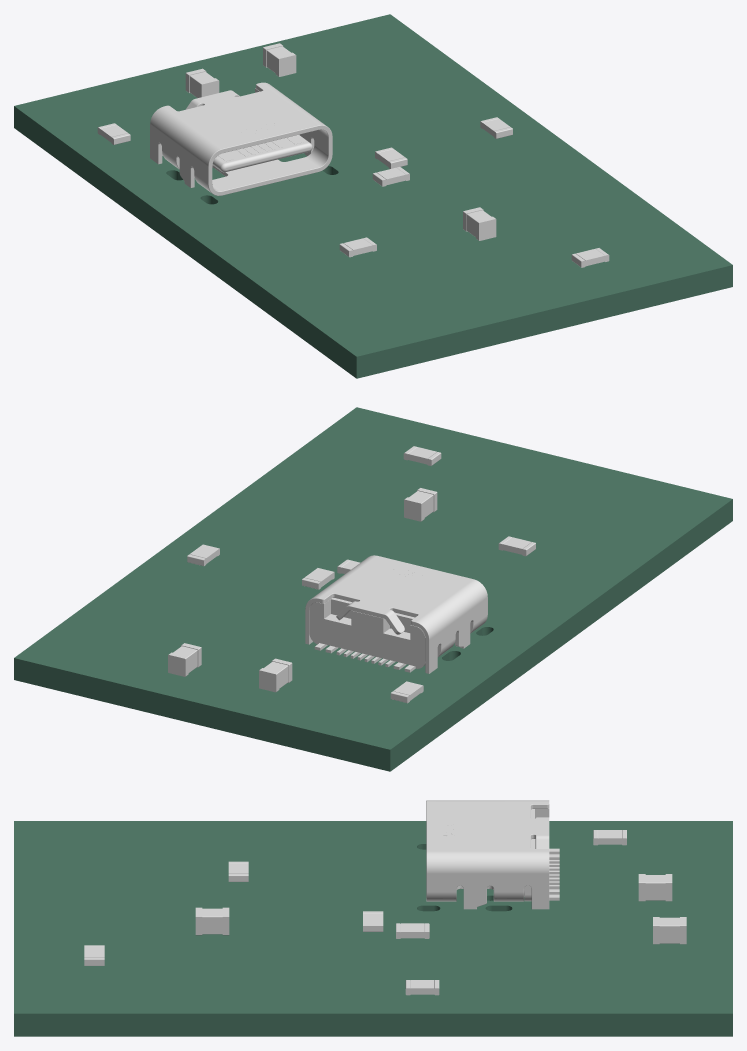
Rendered from board.glb.
The picture shows the model from 3 angles, top to bottom: view 1: azimuth 30°, elevation 25°; view 2: azimuth 150°, elevation 25°; view 3: azimuth 270°, elevation 25°; orthographic projection. The views are drawn at different scales.
Parts seen in each view (by area): view 1: =>[0:1:1:5], J1, C2, C3, C1; view 2: =>[0:1:1:5], J1, C3, C2, C1; view 3: =>[0:1:1:5], J1, C3, C1, C2, R2, R5, R1, R6, R3, R4.
Part boxes in pixels (x1,y1,x2,y2): =>[0:1:1:5]: [14, 14, 732, 378]; J1: [150, 82, 332, 195]; C2: [263, 43, 296, 76]; C3: [463, 207, 496, 240]; C1: [185, 68, 219, 97]; =>[0:1:1:5]: [14, 407, 732, 771]; J1: [305, 555, 487, 673]; C3: [404, 488, 437, 521]; C2: [168, 643, 201, 676]; C1: [259, 658, 292, 692]; =>[0:1:1:5]: [14, 821, 732, 1036]; J1: [426, 800, 559, 909]; C3: [195, 907, 229, 935]; C1: [638, 874, 672, 901]; C2: [653, 917, 686, 944]; R2: [396, 923, 429, 938]; R5: [405, 980, 439, 995]; R1: [593, 830, 626, 845]; R6: [363, 911, 383, 931]; R3: [84, 945, 104, 965]; R4: [228, 861, 248, 881].
Size of the model in its own units: 0.0271 by 0.00485 by 0.0427.
